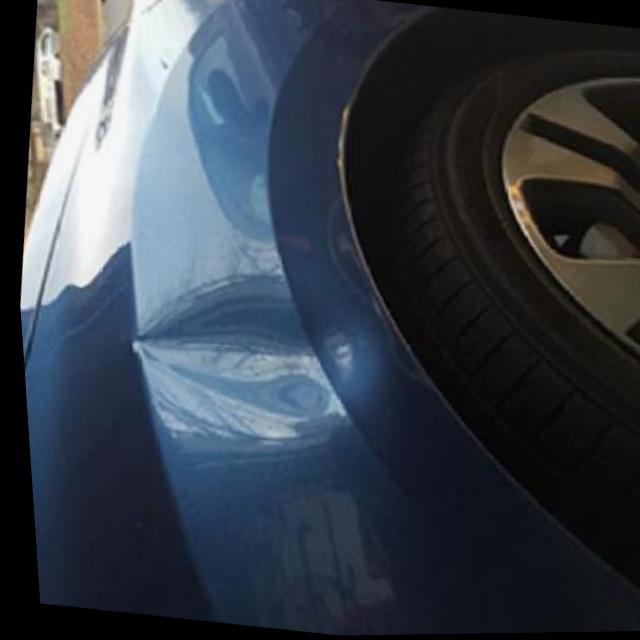Dent: (129, 258, 384, 447)
Scratch: (331, 47, 418, 372)
